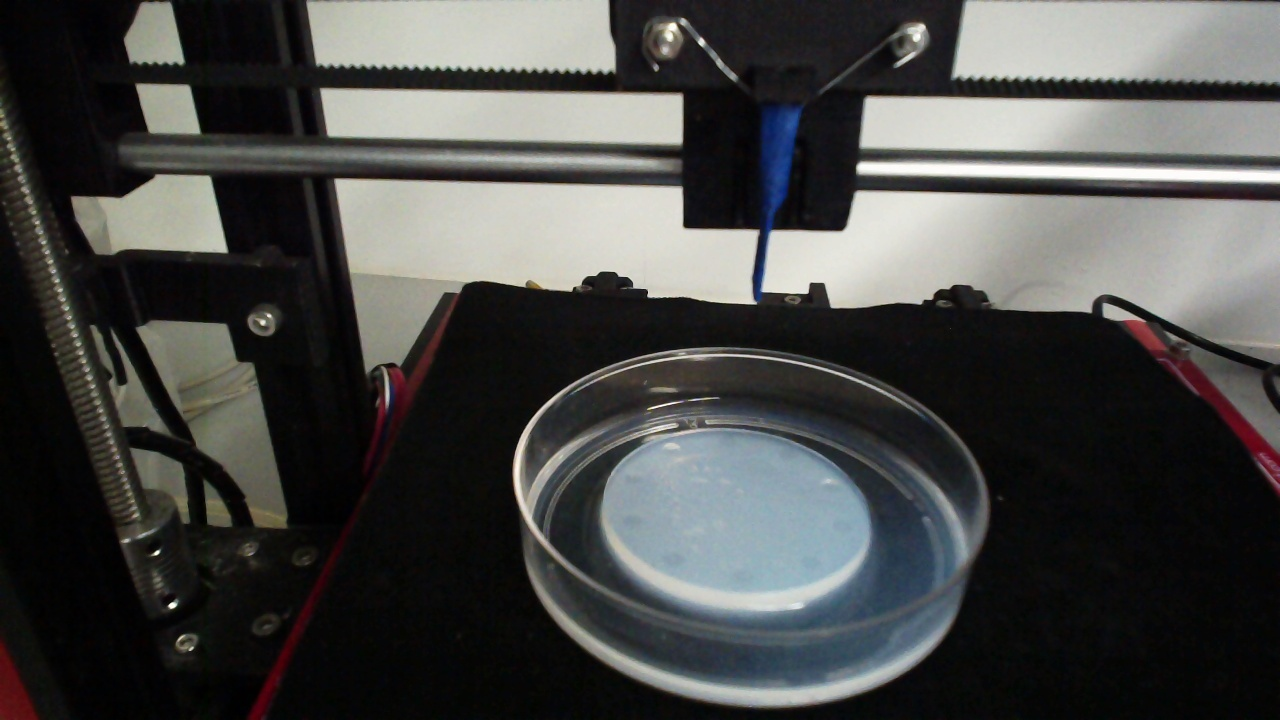groove: (660, 551, 685, 568), (732, 566, 754, 585), (798, 554, 821, 572), (819, 478, 842, 496), (830, 519, 853, 535), (776, 445, 799, 461), (620, 514, 642, 529), (716, 434, 738, 448), (623, 472, 642, 485), (662, 441, 681, 452)
needle: (753, 105, 798, 300)
